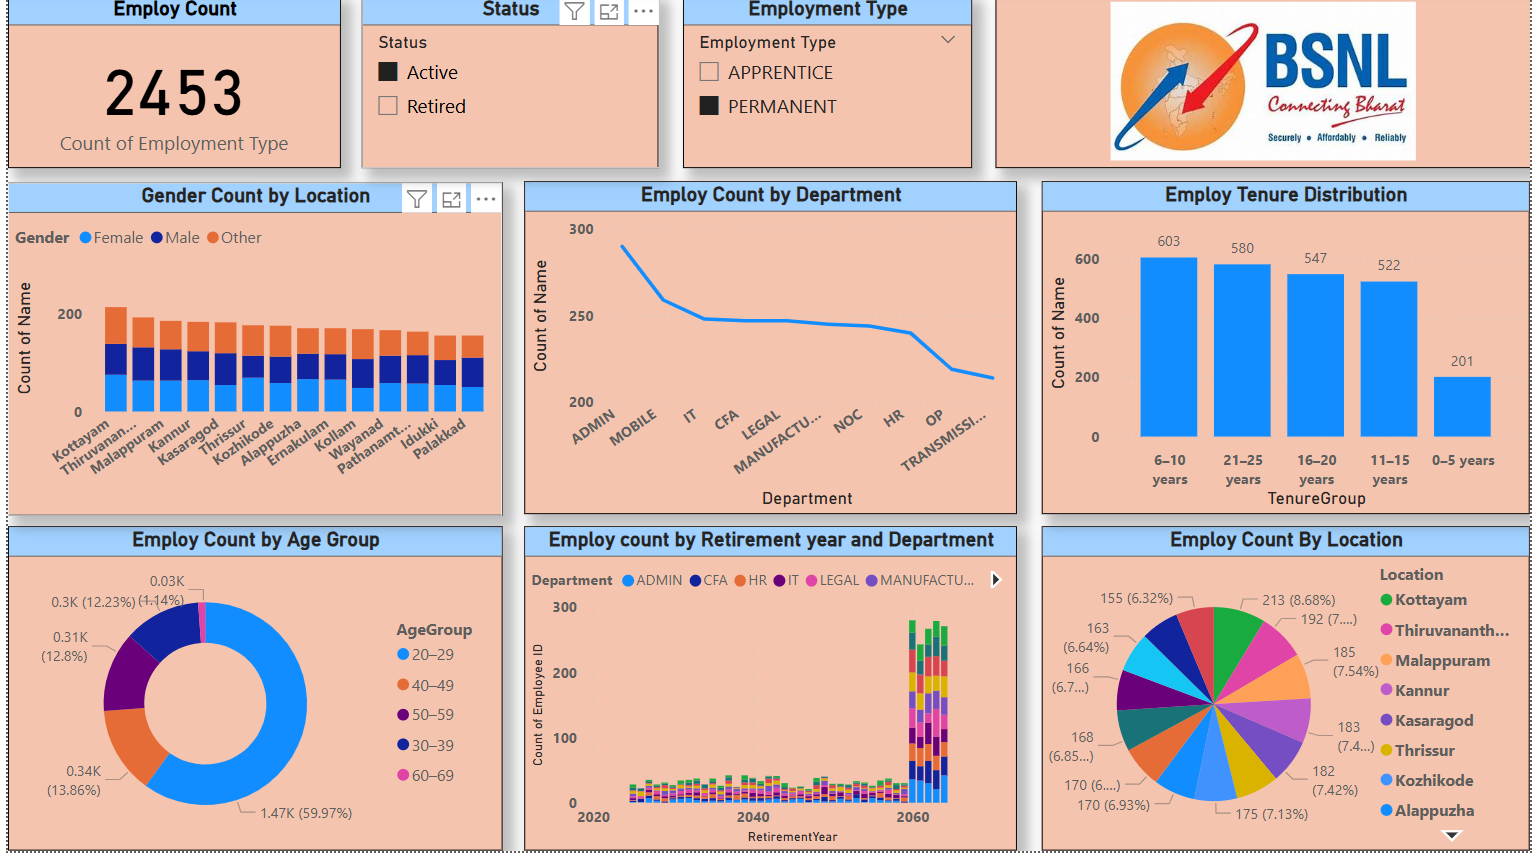

The page's visual inventory and layout, read from the dashboard file:
{"tool":"powerbi","page":{"name":"Page 1","canvas":[1280,720],"ordinal":0},"visuals":[{"type":"card","title":" Employ Count","fields":{"Values":["CountNonNull(Sheet1.Employment Type)"]},"box":[0,0,279.9,145.5],"z":0},{"type":"slicer","title":"Status","fields":{"Values":["Sheet1.Status"]},"box":[297.8,0,249.7,145.5],"z":1000},{"type":"slicer","title":"Employment Type","fields":{"Values":["Sheet1.Employment Type"]},"box":[568.1,0,242.9,145.5],"z":2000},{"type":"image","box":[830.2,0,450.1,145.5],"z":3000},{"type":"donutChart","title":"Employ Count by Age Group","fields":{"Category":["bsnl.AgeGroup"],"Y":["CountNonNull(bsnl.Employee ID)"]},"box":[0,447.1,415.7,272.9],"z":4000},{"type":"columnChart","title":"Gender Count by Location","fields":{"Category":["bsnl.Location"],"Series":["bsnl.Gender"],"Y":["CountNonNull(bsnl.Name)"]},"box":[0,157.8,415.8,279.9],"z":5000},{"type":"pieChart","title":"Employ Count By Location","fields":{"Category":["bsnl.Location"],"Y":["CountNonNull(bsnl.Employee ID)"]},"box":[870,447.3,410.3,273.1],"z":6000},{"type":"lineChart","title":"Employ Count by Department","fields":{"Category":["bsnl.Department"],"Y":["CountNonNull(bsnl.Name)"]},"box":[434.3,157.1,414.3,280],"z":7000},{"type":"columnChart","title":"Employ count by Retirement year and Department","fields":{"Category":["bsnl.RetirementYear"],"Y":["CountNonNull(bsnl.Employee ID)"],"Series":["bsnl.Department"]},"box":[434.3,447.1,414.3,272.9],"z":8000},{"type":"clusteredColumnChart","title":"Employ Tenure Distribution","fields":{"Category":["bsnl.TenureGroup"],"Y":["CountNonNull(bsnl.Name)"]},"box":[870,157.1,410,280],"z":9000}]}

Visuals, with their boxes in screenshot pixels (x1, y1, x2, y2), scaled from the page's 1280x720 canvas onto the 1538x856 screenshot:
" Employ Count" card: (left=0, top=0, right=336, bottom=173)
"Status" slicer: (left=358, top=0, right=658, bottom=173)
"Employment Type" slicer: (left=683, top=0, right=974, bottom=173)
image: (left=998, top=0, right=1537, bottom=173)
"Employ Count by Age Group" donutChart: (left=0, top=532, right=499, bottom=855)
"Gender Count by Location" columnChart: (left=0, top=188, right=500, bottom=520)
"Employ Count By Location" pieChart: (left=1045, top=532, right=1537, bottom=855)
"Employ Count by Department" lineChart: (left=522, top=187, right=1020, bottom=520)
"Employ count by Retirement year and Department" columnChart: (left=522, top=532, right=1020, bottom=855)
"Employ Tenure Distribution" clusteredColumnChart: (left=1045, top=187, right=1537, bottom=520)
